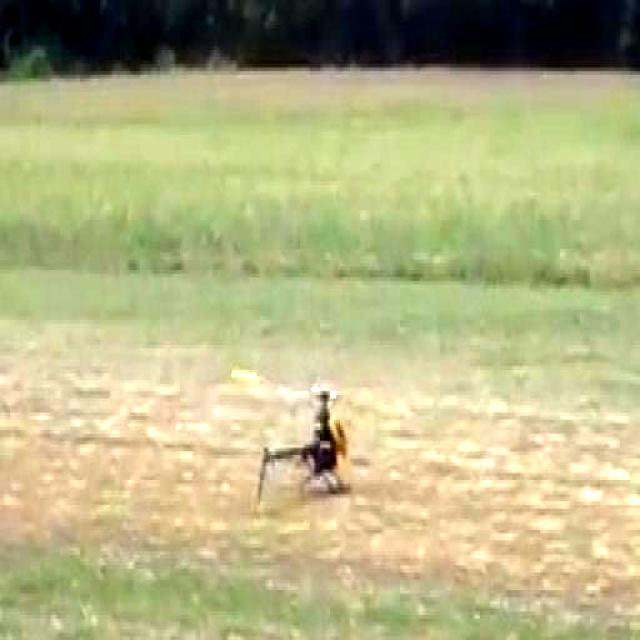drone: (248, 374, 369, 504)
